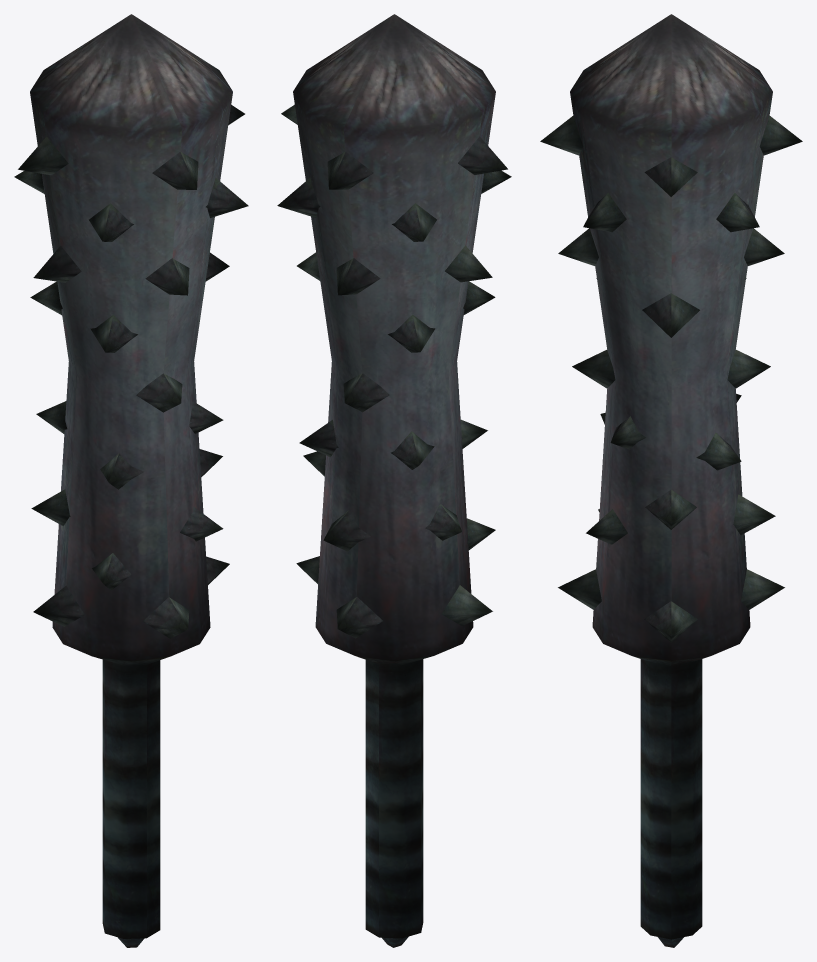
File: WP_OniLord_Club.FBX
3 views of the same model, side by side, from view 1: azimuth 30°, elevation 25°; view 2: azimuth 150°, elevation 25°; view 3: azimuth 270°, elevation 25° (orthographic).
Visible parts, largest first — view 1: WP_OniLord_Club; view 2: WP_OniLord_Club; view 3: WP_OniLord_Club.
Boxes of the visible parts, box(x1,y1,x2,y2) form: WP_OniLord_Club: box(14, 14, 248, 947); WP_OniLord_Club: box(277, 14, 511, 947); WP_OniLord_Club: box(540, 14, 802, 947).
Size of the model in its own units: 92.36 by 361 by 92.36.
Materials: 1 (1 with a texture image).
